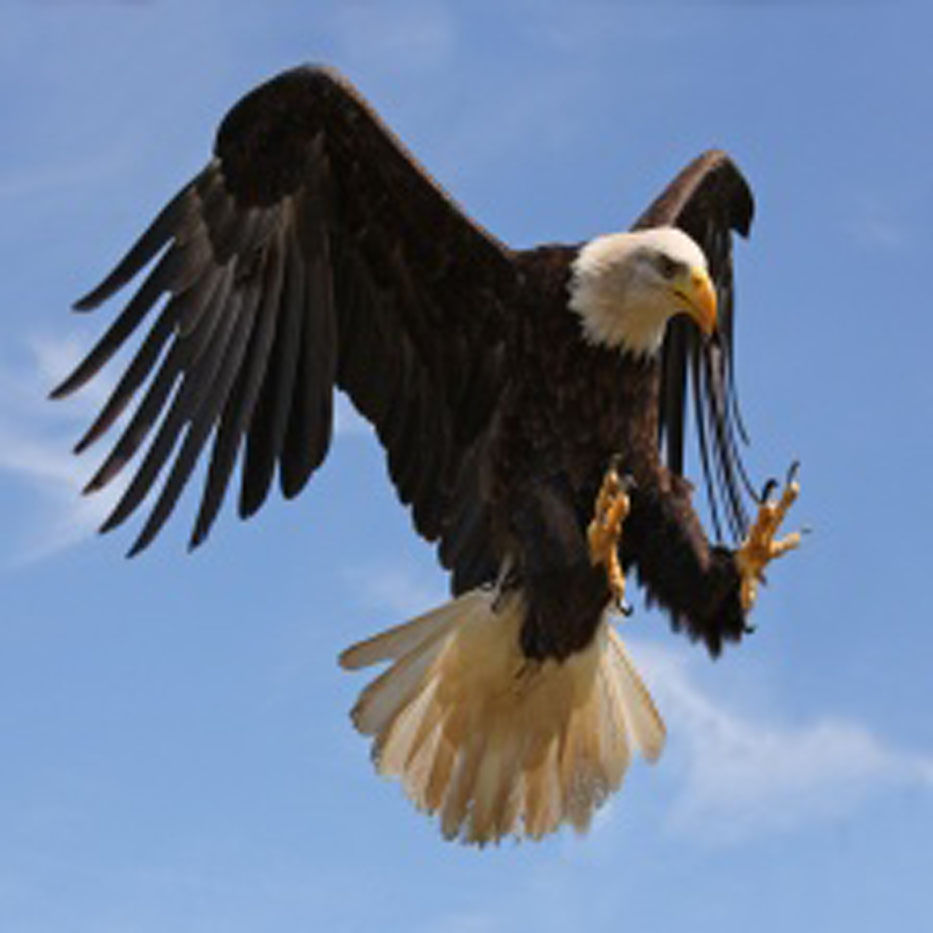Pengoyak Daging: (677, 272, 741, 349)
